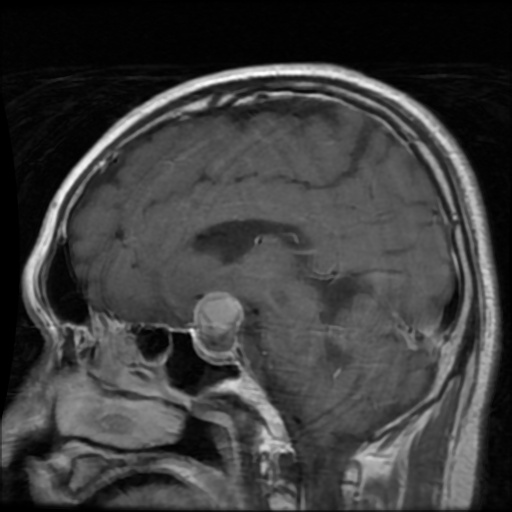pituitary: (196, 297, 242, 339)
